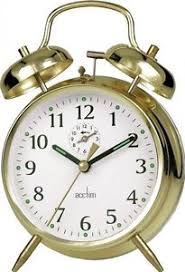alarm_clock: (4, 47, 172, 271)
